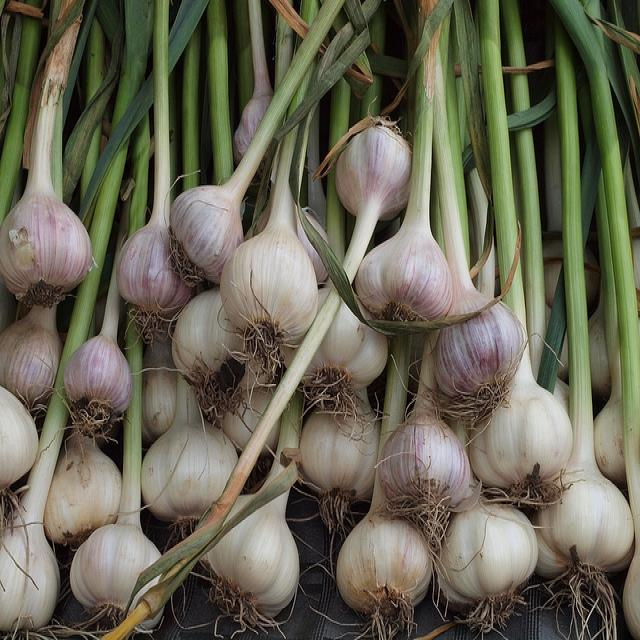garlic: (0, 150, 124, 629), (538, 25, 634, 569), (171, 0, 343, 283), (210, 288, 341, 519), (0, 17, 92, 308), (70, 318, 160, 608), (116, 0, 192, 340), (355, 53, 452, 319), (220, 128, 318, 382), (469, 347, 572, 488), (141, 373, 238, 521), (379, 408, 472, 552), (205, 492, 299, 628), (336, 512, 432, 638), (336, 122, 411, 281), (479, 0, 518, 284), (44, 433, 121, 542), (435, 303, 525, 396), (300, 398, 379, 499), (70, 527, 161, 610), (0, 305, 62, 404), (64, 333, 132, 412), (114, 0, 148, 118), (265, 393, 302, 484), (504, 265, 525, 328)
